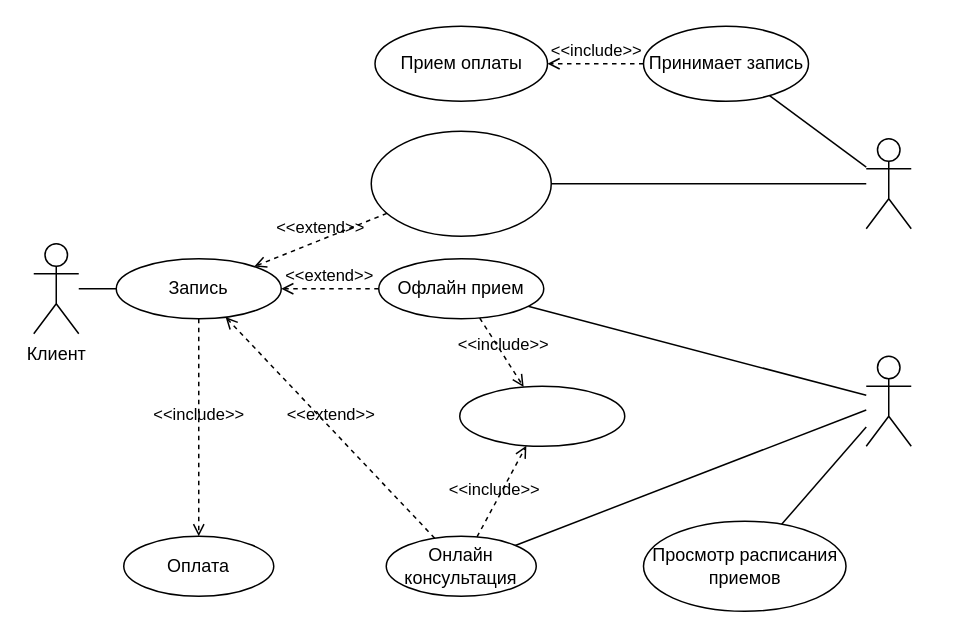
The diagram is 971 pixels wide and 638 high, and some of its shapes have lost their labels. The shapes that lost their labels are listed below. From the top down, each one's centre as x and y in pixels, then its label:
At point (460, 183): "Подготовка мед. документов".
At point (888, 183): "Регистратура".
At point (541, 415): "Подготовка заключения".
At point (888, 400): "Врач".
